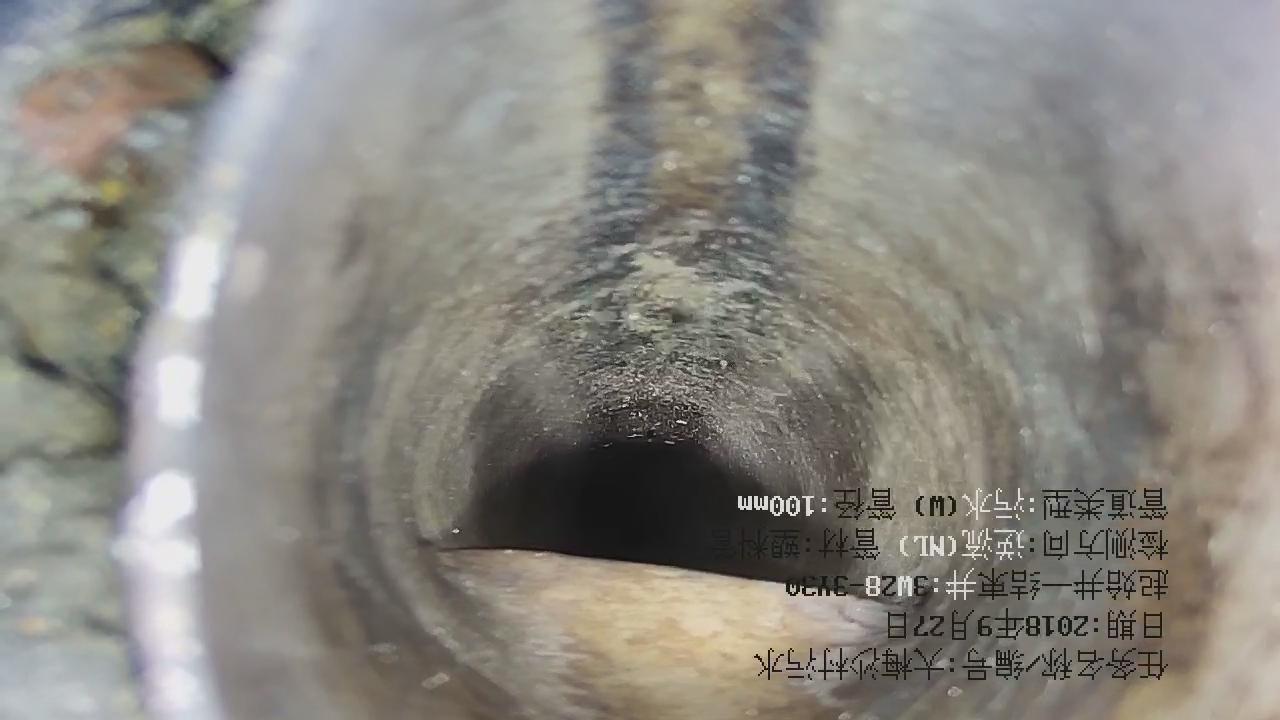BX: (357, 502, 903, 699)
